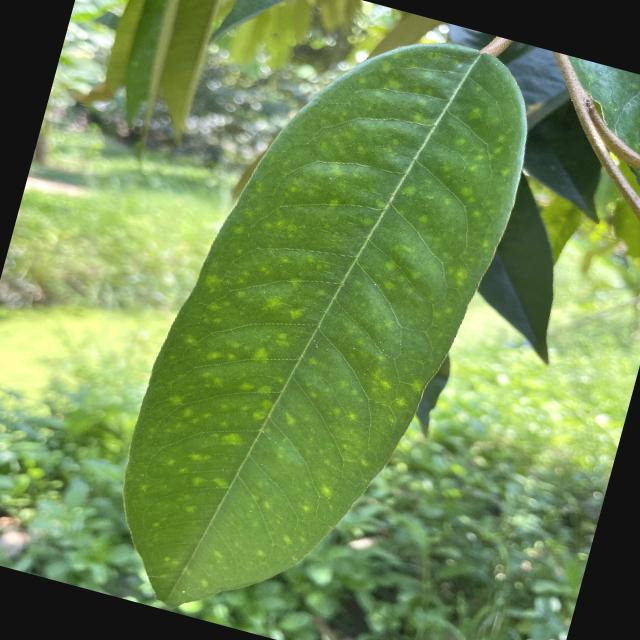Leaf Spot: (77, 0, 560, 639)
